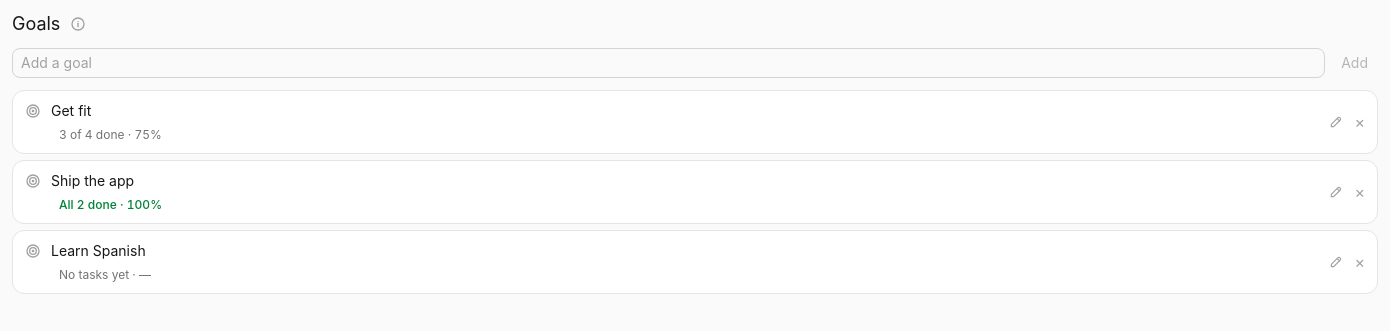
Test: making a goal › says so rather than making a second goal of the same name, keeping what was typed (GOAL-4)
The image size is (1390, 331).
In the field named "Name of the new goal": (669, 63) [12,48,1325,78], type "get fit"
Then press Enter
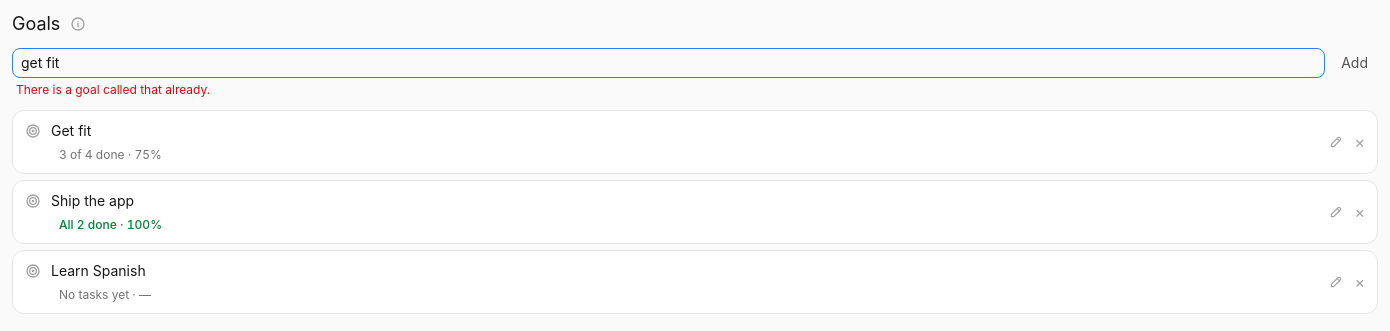
Result: the message reads "There is a goal called that already." at [16,82,210,97]
